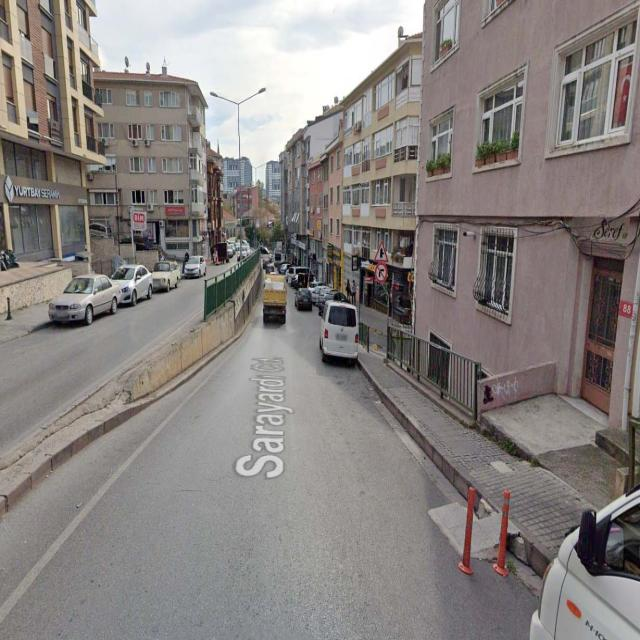sagadonulmez: (375, 263, 387, 282)
